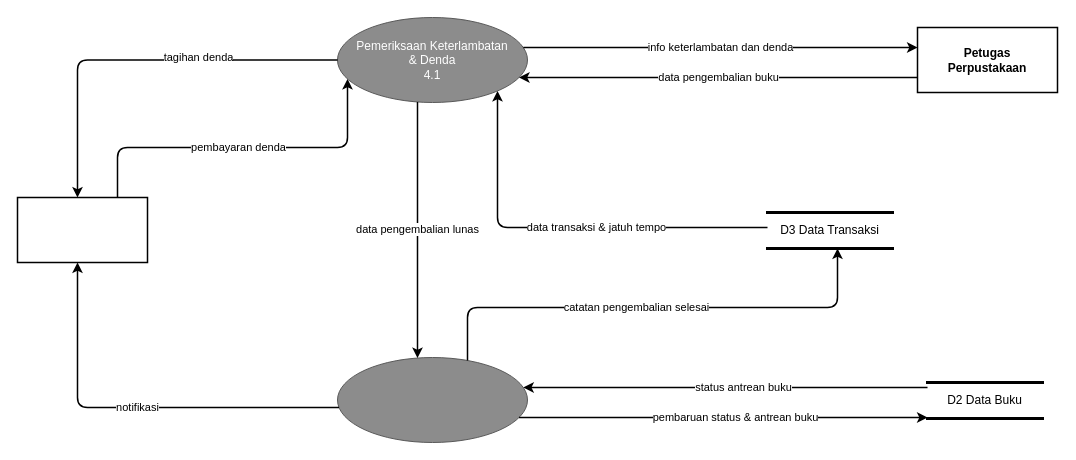
Some shapes in this 1076 by 460 pixel diagram are drawn without their labels. Each missing label, with the centre of its shape:
"Pencatatan Pengembalian & Cek Antrean 4.2" belongs at (x=432, y=399).
"Pengguna" belongs at (x=82, y=229).
